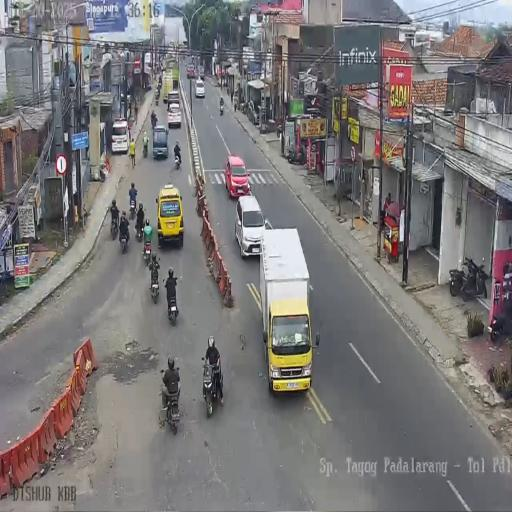car: (234, 193, 264, 258), (156, 183, 184, 248), (224, 154, 250, 199), (112, 118, 130, 155), (152, 123, 168, 159), (167, 102, 182, 128), (195, 78, 205, 98), (186, 64, 195, 78), (198, 66, 204, 80)
motorcycle: (201, 354, 229, 418), (450, 256, 488, 301), (159, 371, 180, 434), (489, 290, 512, 342), (164, 286, 178, 326), (149, 261, 160, 302), (286, 145, 305, 166), (142, 235, 153, 267), (119, 224, 130, 254), (110, 209, 119, 239), (129, 199, 137, 222), (135, 220, 143, 242), (174, 150, 181, 170), (240, 99, 248, 115), (151, 110, 157, 130), (142, 138, 148, 157), (276, 120, 282, 138), (219, 97, 224, 115), (155, 92, 159, 106), (158, 74, 162, 87)
truck: (259, 230, 311, 390), (163, 71, 173, 103)
